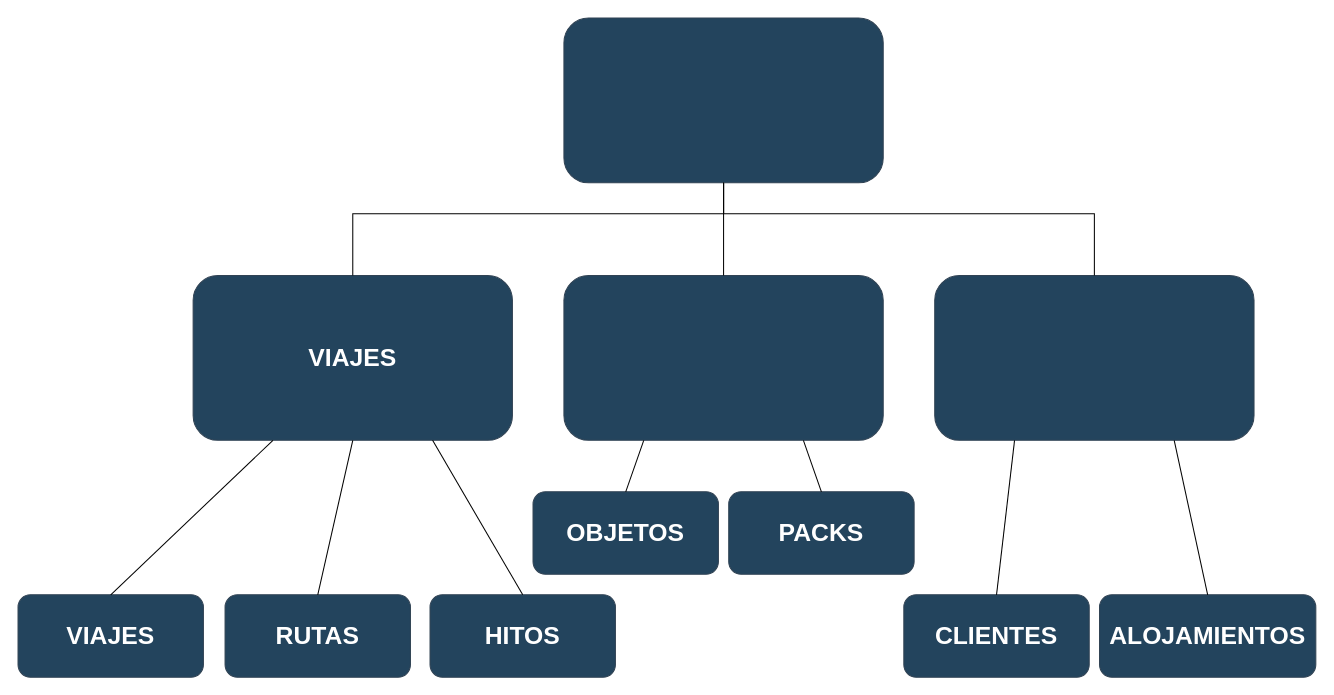
The diagram is 1334 pixels wide and 695 high, and some of its shapes have lost their labels. The centre of each missing label's shape, as x and y in pixels:
CONTACTO: the point at 1094,357
INVENTARIO: the point at 723,357
MENÚ: RESERVAS: the point at 723,100
